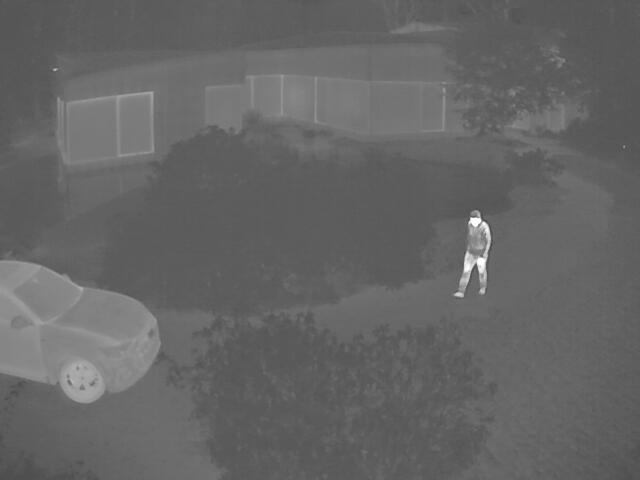person: (452, 208, 489, 296)
